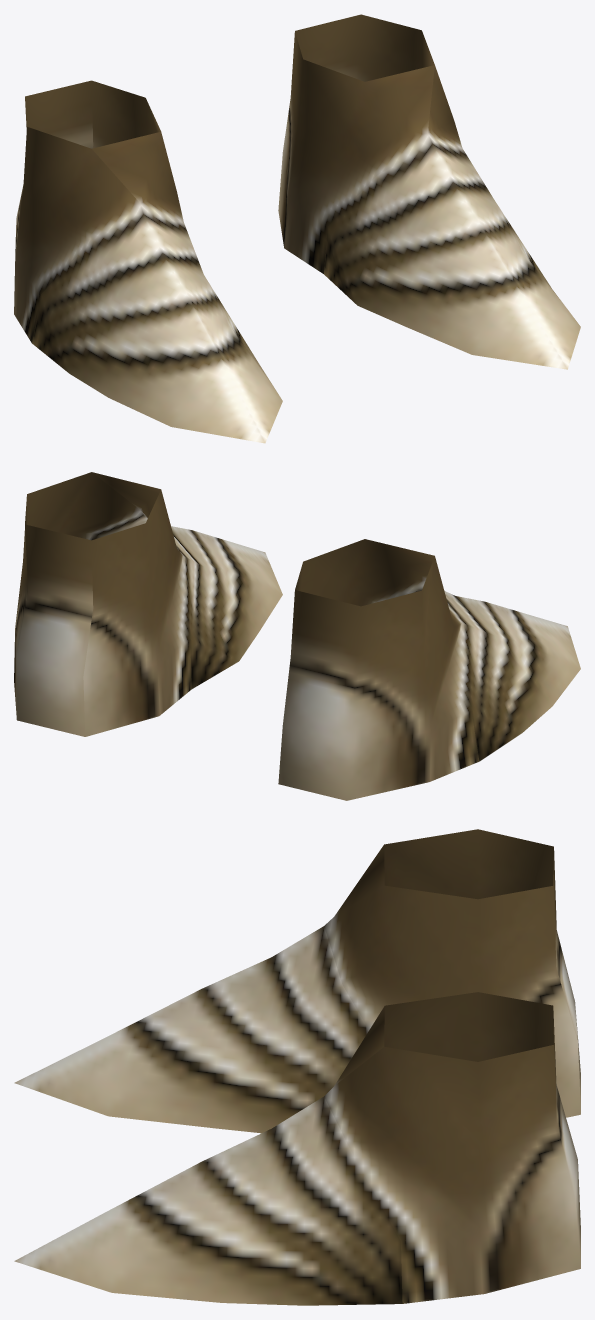
Rendered from hum_caster_07_8d0401a1.glb.
3 renders of one model, top to bottom at view 1: azimuth 30°, elevation 25°; view 2: azimuth 150°, elevation 25°; view 3: azimuth 270°, elevation 25°, orthographic. The views are drawn at different scales.
Bounding box in the file's own units: 0.5899 × 0.2332 × 0.5289.
1 material, 1 textured.
